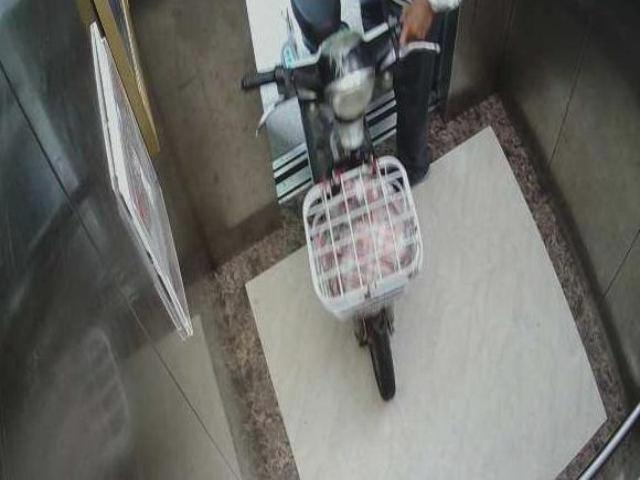emotor: (246, 3, 421, 400)
